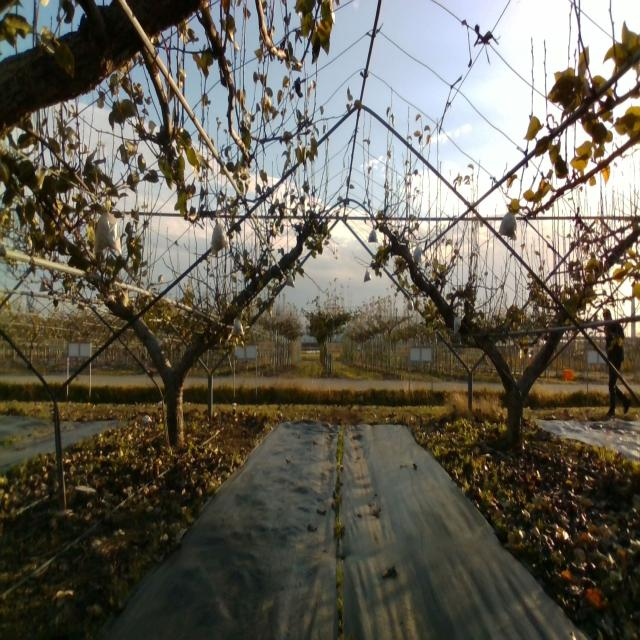pearbags: (94, 202, 120, 257), (209, 219, 230, 257), (498, 203, 518, 238), (413, 241, 423, 265), (233, 318, 244, 338), (368, 224, 379, 243)
